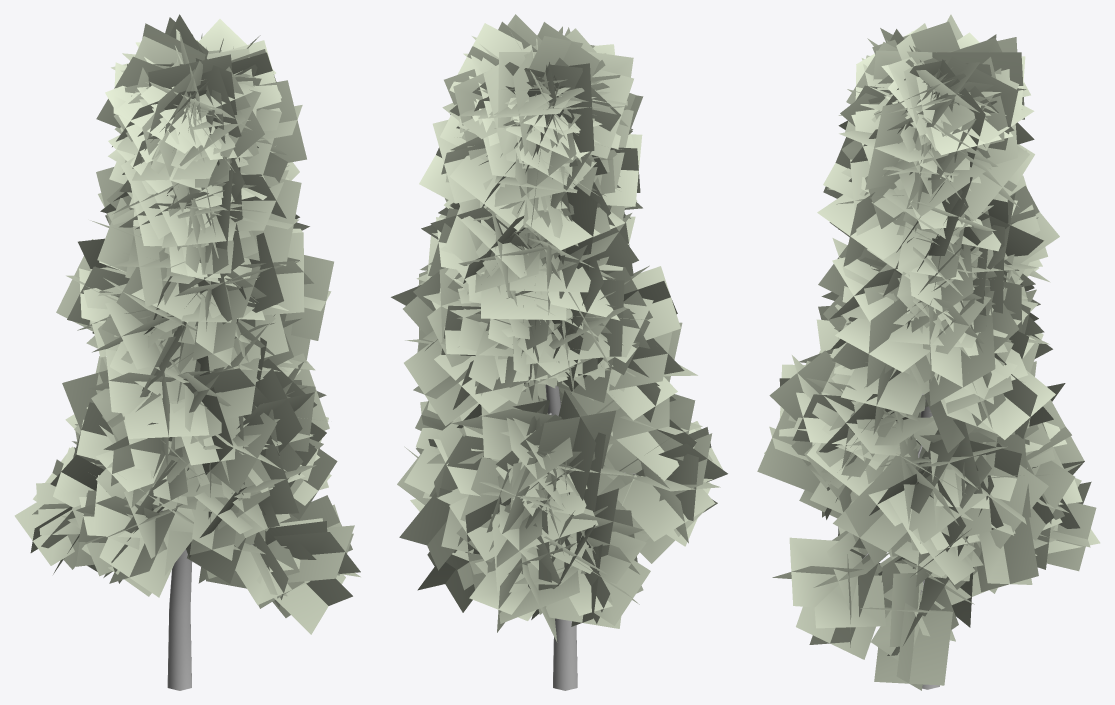
The model's file is sugi2.glb.
The picture shows the model from 3 angles, left to right: view 1: azimuth 30°, elevation 25°; view 2: azimuth 150°, elevation 25°; view 3: azimuth 270°, elevation 25°; orthographic projection. The views are drawn at different scales.
Bounding box in the file's own units: 10.88 × 24 × 11.19.
